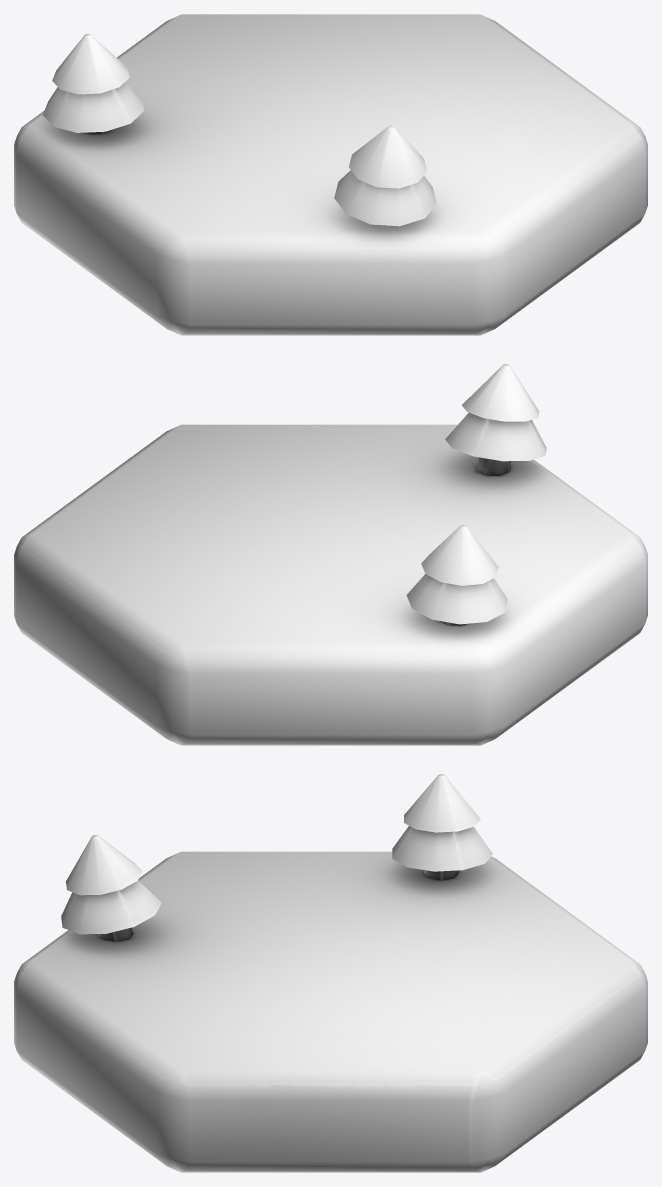
File: 1_field_bake.dae
The picture shows the model from 3 angles, top to bottom: view 1: azimuth 30°, elevation 25°; view 2: azimuth 150°, elevation 25°; view 3: azimuth 270°, elevation 25°; orthographic projection.
Parts seen in each view (by area): view 1: Pole; view 2: Pole; view 3: Pole.
Part boxes in pixels (x1,y1,x2,y2): Pole: (14, 14, 647, 335); Pole: (14, 364, 647, 745); Pole: (14, 774, 647, 1172).
Size of the model in its own units: 1 by 1.13 by 0.3913.
